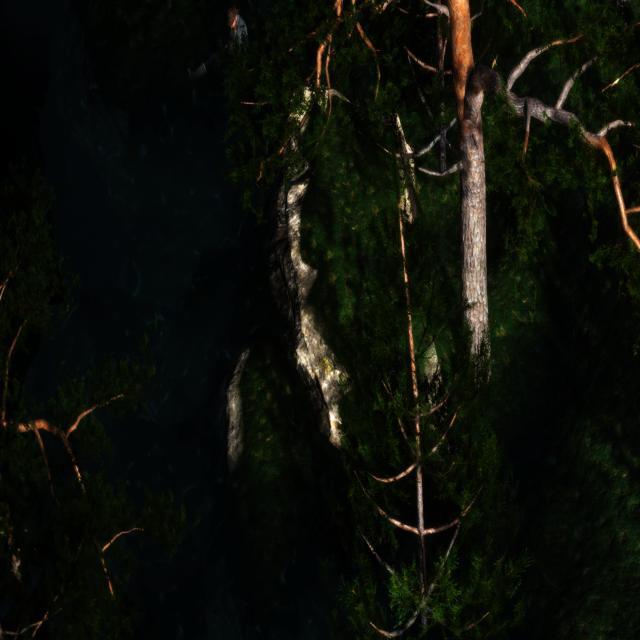Human: (189, 5, 250, 109)
